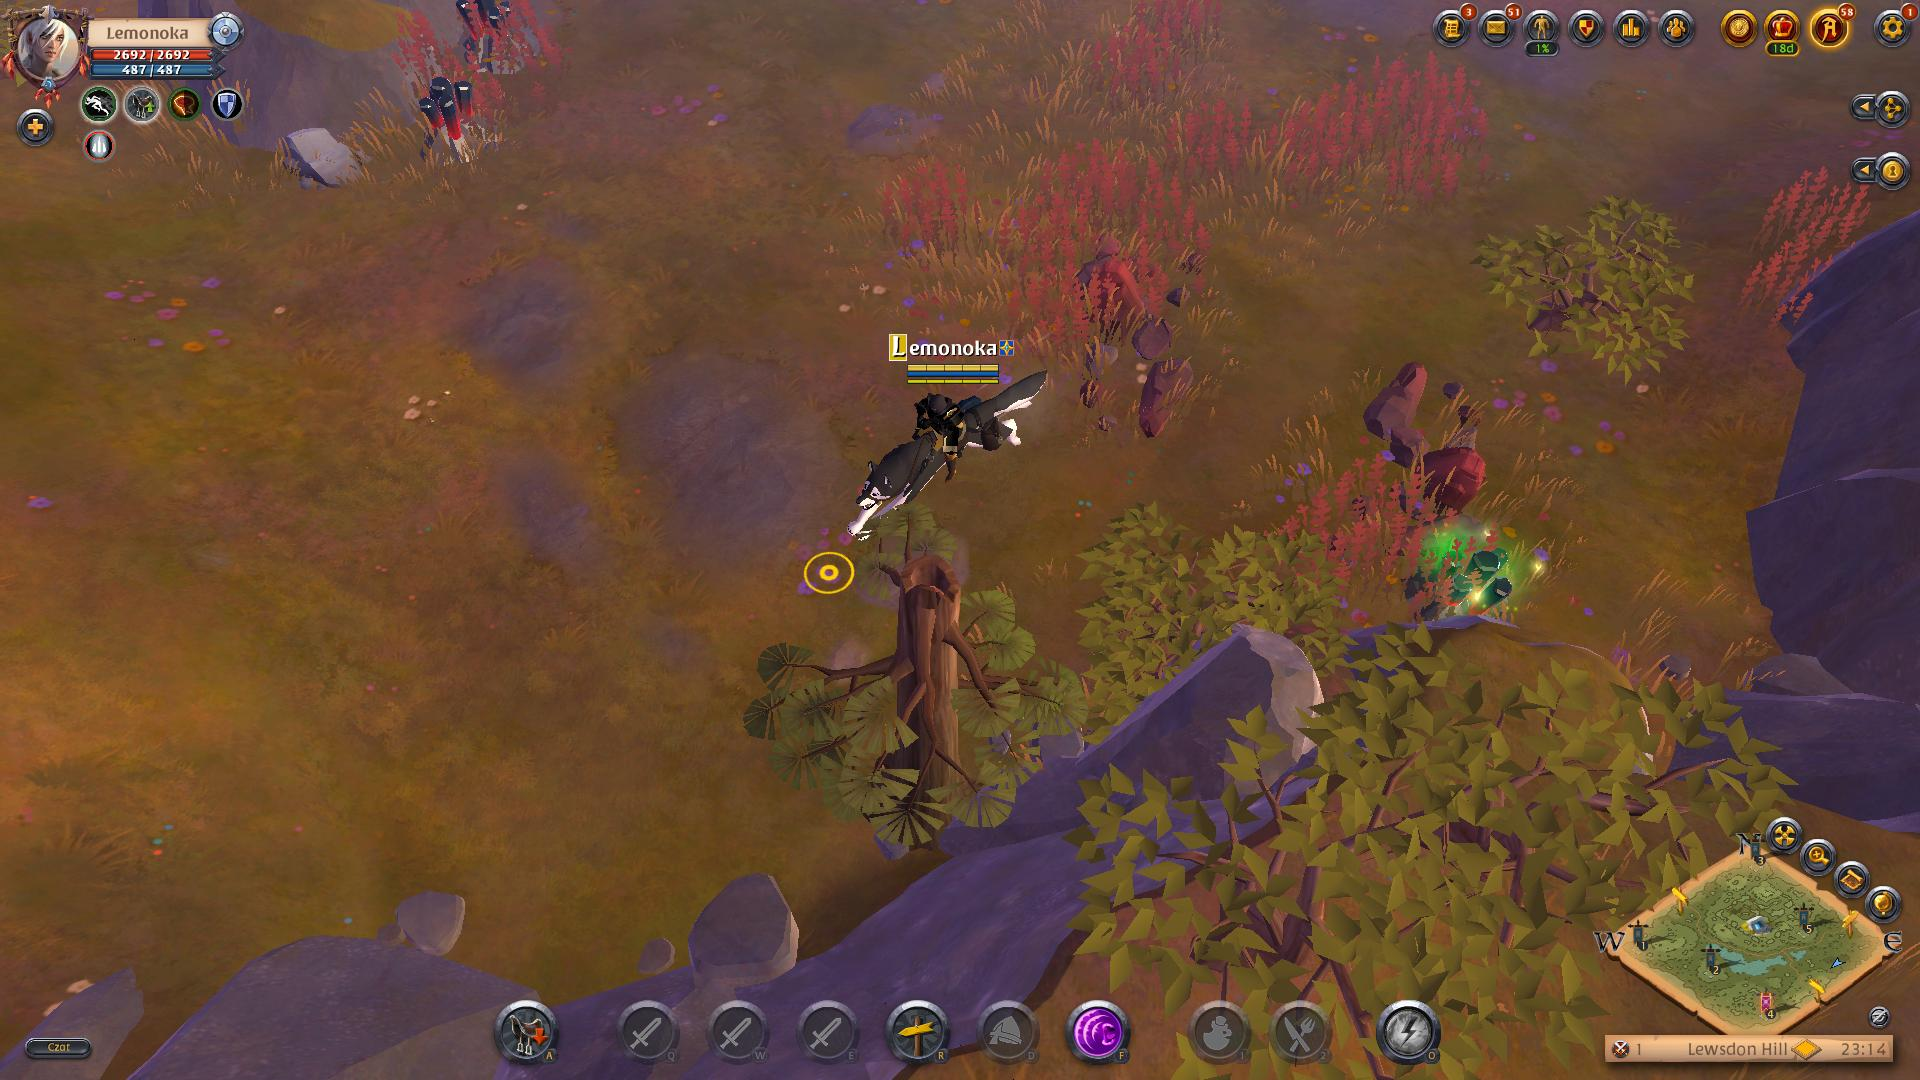ore tier 5: (1400, 529, 1515, 633), (405, 70, 506, 166)
